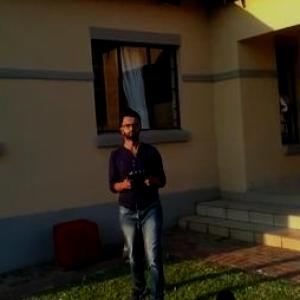follow: (103, 104, 172, 299)
